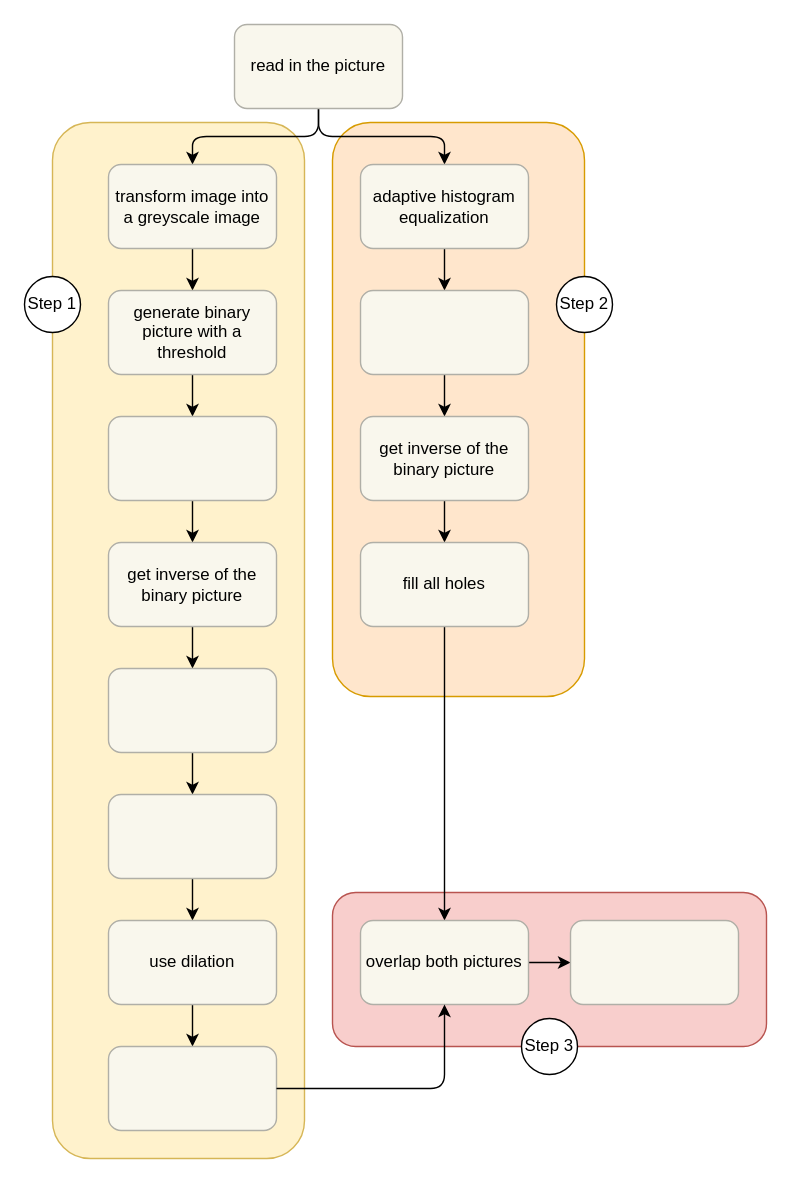
Image size: 791x1183. Some labels were removed from this diagram. Each missing label, with the box of its shape:
calculate sum of pixels: (569, 919, 738, 1004)
convex hull: (107, 1045, 276, 1130)
remove small objects: (107, 415, 276, 500)
remove small objects and objects touching the border: (107, 793, 276, 878)
thresholding with an otsu threshold: (359, 289, 528, 374)
use erosion: (107, 667, 276, 752)
